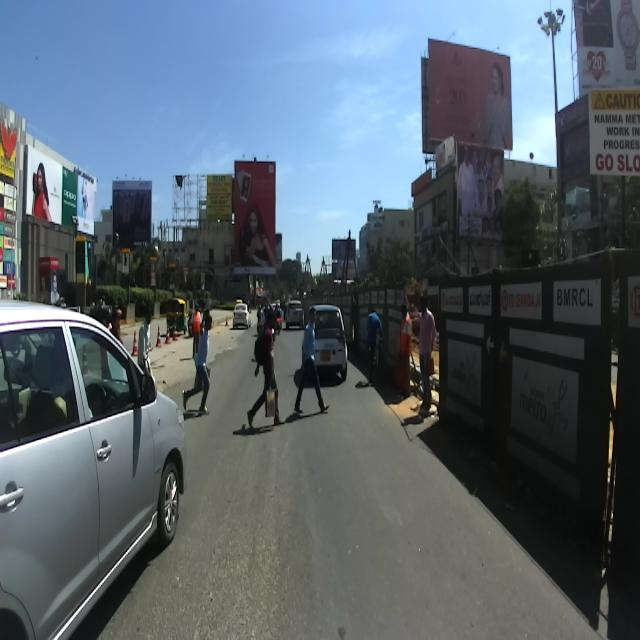barrier ahead at: (437, 256, 640, 558)
car ahead at: (0, 285, 192, 640)
person ahead at: (242, 301, 286, 440)
